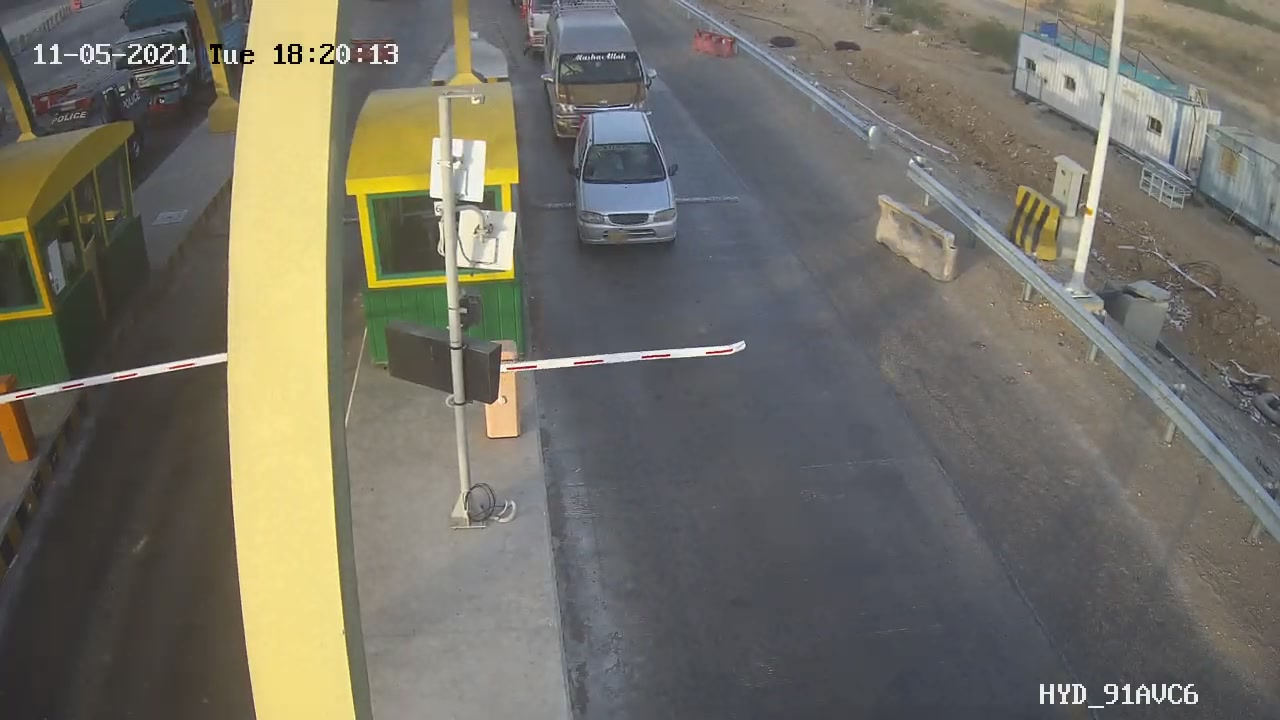F1: (555, 101, 692, 257)
